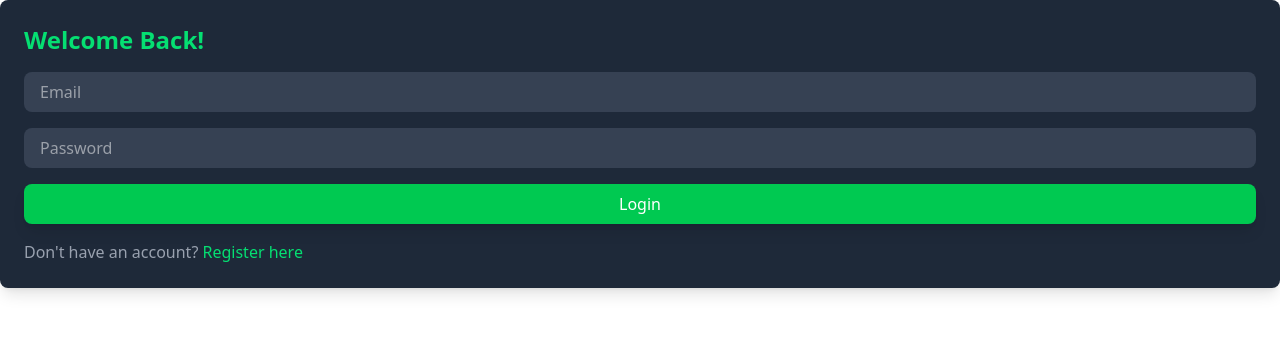
Test: LoginUser Component › Form Submission › displays server error on failed login
What coordinates should you click on to do the following:
click the button "Login"
I would click on:
 (640, 204)
Its box is [24,184,1256,224].
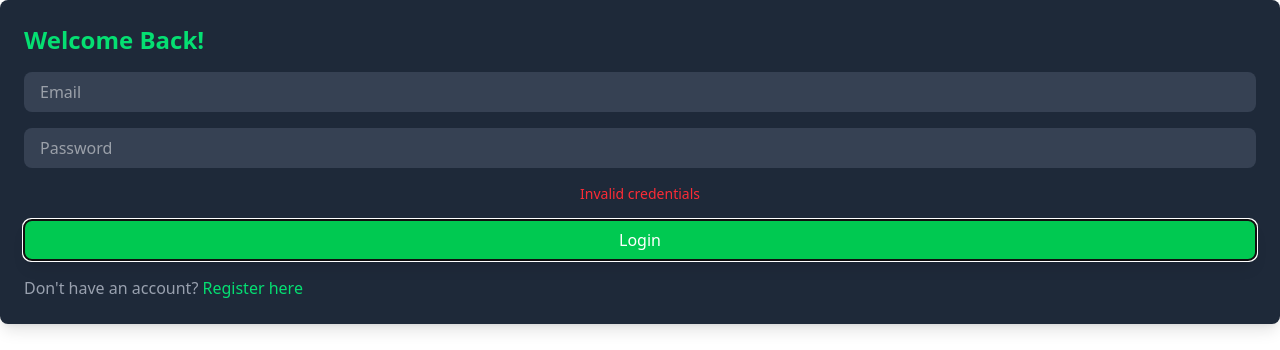
Now the text "Invalid credentials" is shown, box [580,184,700,203]
